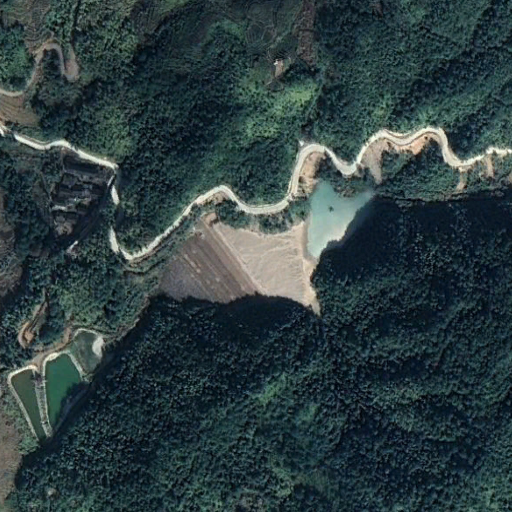tp: (173, 176, 376, 320)
